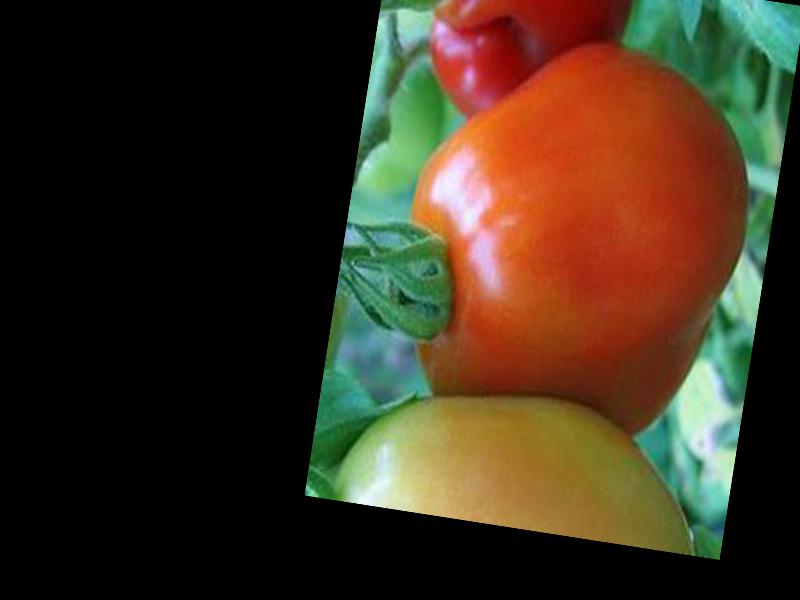Tomato: (386, 17, 770, 430)
